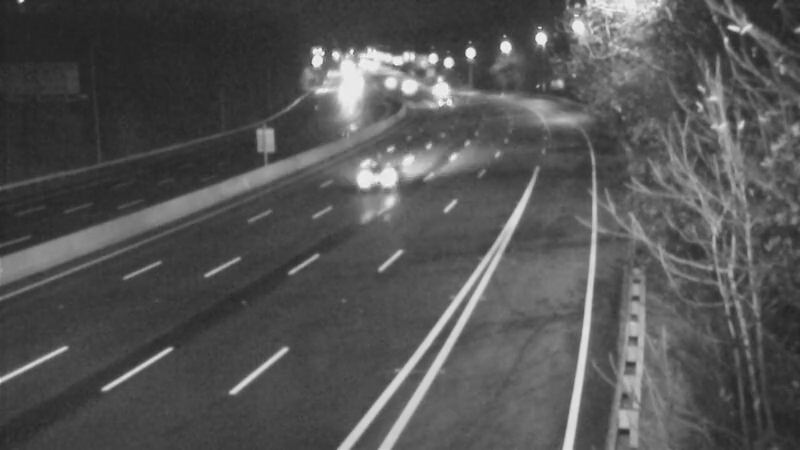vehicle: (330, 140, 410, 220), (362, 59, 412, 109), (383, 62, 433, 112), (414, 64, 464, 114), (421, 78, 471, 128), (321, 72, 371, 122)
